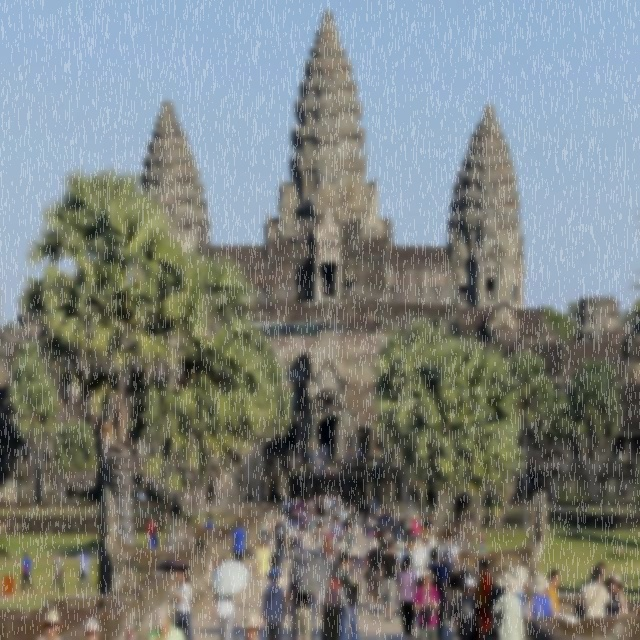pessoa: (318, 562, 354, 639), (333, 548, 359, 639), (411, 565, 442, 639), (492, 576, 528, 639), (426, 547, 450, 639), (438, 527, 461, 622), (260, 564, 289, 639), (168, 564, 196, 639), (395, 554, 419, 640), (378, 538, 402, 624), (361, 534, 386, 616), (455, 575, 487, 639), (578, 565, 612, 619), (261, 552, 290, 610), (526, 572, 558, 624), (475, 557, 494, 639), (210, 589, 240, 639), (146, 604, 188, 639), (346, 544, 364, 617), (292, 582, 314, 639), (256, 534, 274, 598), (272, 514, 290, 574), (606, 570, 628, 618), (512, 566, 530, 619), (409, 537, 427, 590), (74, 545, 92, 596), (36, 609, 66, 639), (544, 568, 562, 616), (238, 611, 268, 639), (376, 501, 408, 526), (50, 548, 66, 595), (287, 578, 299, 639), (423, 520, 438, 566), (20, 549, 34, 594), (232, 520, 246, 564), (281, 513, 294, 560), (302, 500, 313, 552), (359, 496, 372, 536), (426, 534, 441, 566), (292, 513, 302, 561), (331, 448, 363, 463), (596, 561, 610, 594), (342, 520, 358, 548), (313, 520, 327, 552), (348, 504, 359, 541), (330, 513, 344, 542), (258, 520, 272, 548), (393, 538, 408, 564), (366, 514, 376, 551), (322, 538, 336, 564), (84, 615, 99, 639), (476, 530, 488, 558), (330, 504, 338, 542), (410, 511, 422, 536), (146, 526, 158, 550), (338, 504, 349, 530), (146, 515, 158, 538), (420, 518, 430, 545), (318, 492, 327, 520), (264, 509, 274, 534), (380, 526, 395, 542), (305, 447, 317, 464), (290, 496, 298, 520), (324, 492, 331, 518), (371, 494, 378, 520), (204, 513, 214, 530), (335, 492, 342, 516), (340, 514, 350, 530), (308, 497, 316, 517), (327, 494, 334, 516), (320, 458, 327, 480), (136, 492, 143, 514), (274, 453, 280, 478), (312, 494, 318, 518), (628, 602, 640, 614), (316, 454, 322, 477), (426, 513, 435, 528), (316, 447, 327, 458), (284, 497, 292, 511), (294, 501, 302, 512), (296, 496, 300, 504)
